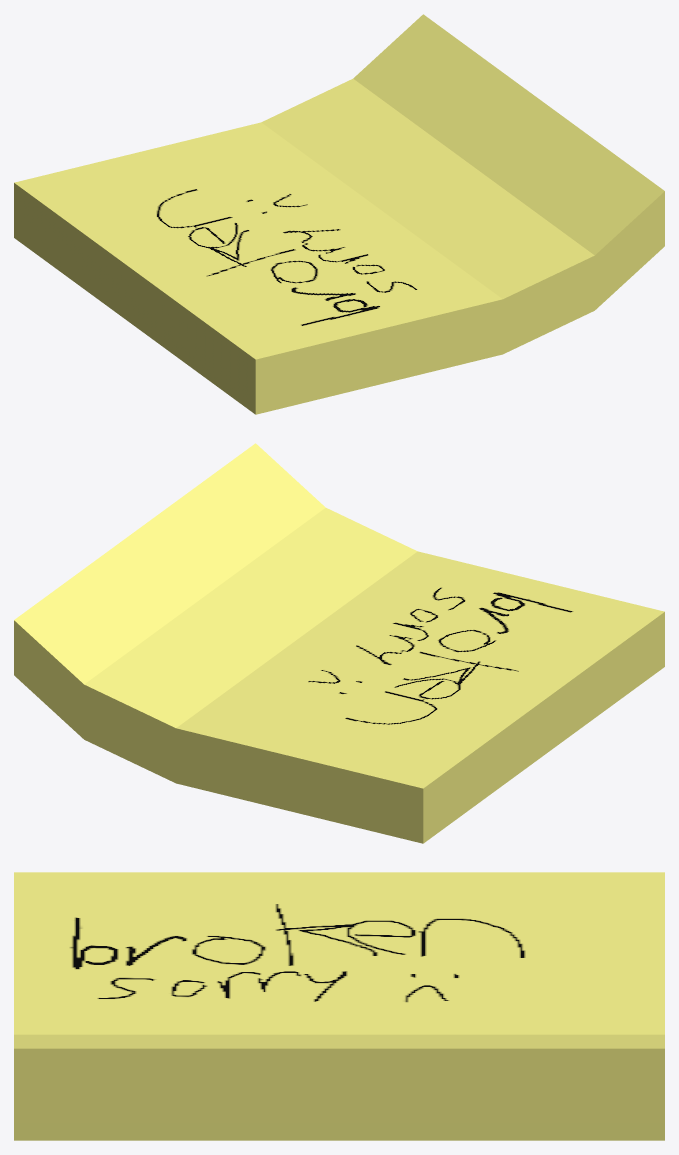
Rendered from brokensorry.fbx.
3 views of the same model, one above another, from view 1: azimuth 30°, elevation 25°; view 2: azimuth 150°, elevation 25°; view 3: azimuth 270°, elevation 25° (orthographic). The views are drawn at different scales.
Visible parts, largest first — view 1: Cube; view 2: Cube; view 3: Cube.
Boxes of the visible parts, box(x1,y1,x2,y2) form: Cube: box(14, 14, 664, 414); Cube: box(14, 443, 664, 843); Cube: box(14, 872, 664, 1140).
Size of the model in its own units: 196 by 56.53 by 200.
